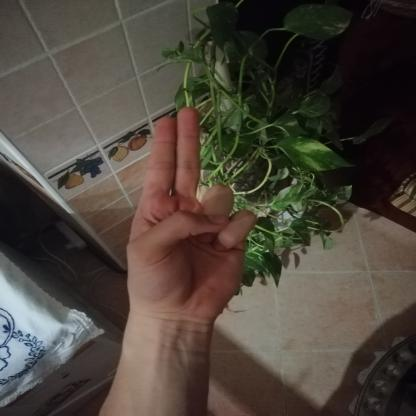TA: (110, 97, 266, 329)
